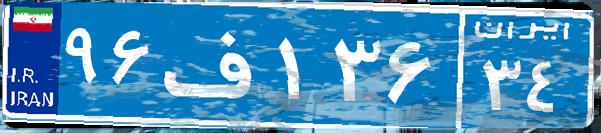1: (273, 28, 330, 110)
3: (330, 28, 385, 110), (475, 38, 525, 113)
4: (525, 38, 570, 115)
6: (385, 28, 445, 110), (110, 28, 158, 105)
9: (57, 26, 110, 107)
ف: (158, 15, 273, 115)
